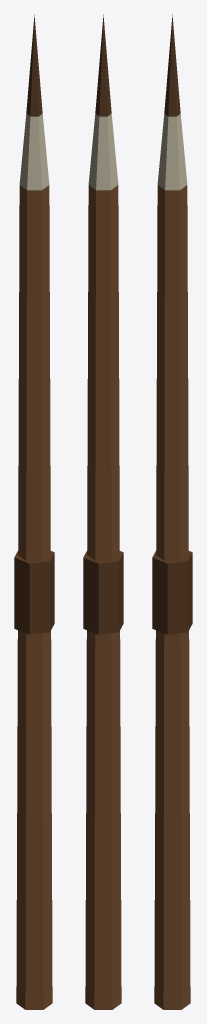
File: wpn_spear_wood_01.fbx
The picture shows the model from 3 angles, left to right: view 1: azimuth 90°, elevation 25°; view 2: azimuth 150°, elevation 25°; view 3: azimuth 330°, elevation 25°; orthographic projection.
Visible parts, largest first — view 1: wpn_spear_wood_01; view 2: wpn_spear_wood_01; view 3: wpn_spear_wood_01.
Boxes of the visible parts, x1=… form: wpn_spear_wood_01: x1=14, y1=14, x2=54, y2=1009; wpn_spear_wood_01: x1=83, y1=14, x2=123, y2=1009; wpn_spear_wood_01: x1=152, y1=14, x2=192, y2=1009.
Size of the model in its own units: 0.0527 by 0.0516 by 1.39.
